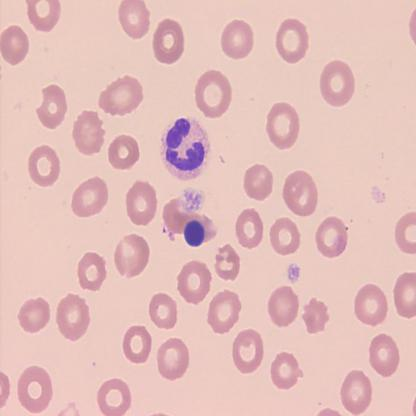NRC: (182, 217, 206, 250)
